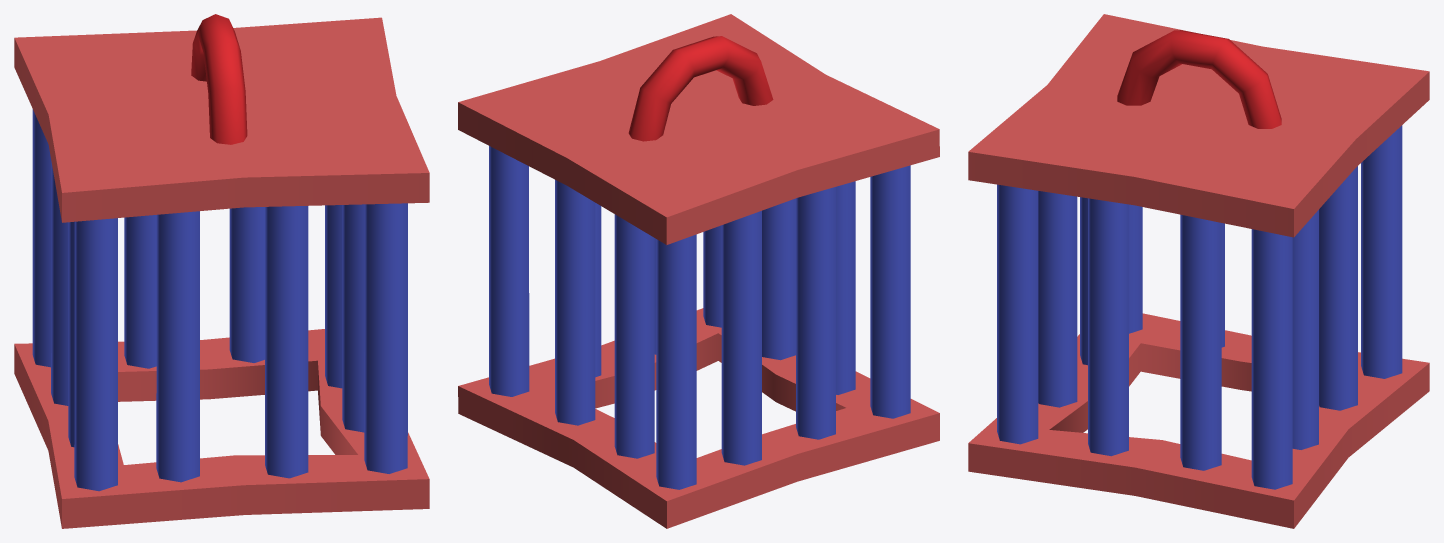
Rendered from Prop_FallingCage_Fabi_M.fbx.
3 views of the same model, side by side, from view 1: azimuth 30°, elevation 25°; view 2: azimuth 150°, elevation 25°; view 3: azimuth 270°, elevation 25° (orthographic). The views are drawn at different scales.
Visible parts, largest first — view 1: ASL_FallingCage; view 2: ASL_FallingCage; view 3: ASL_FallingCage.
Part boxes in pixels (bbox=[...]): ASL_FallingCage: bbox=[14, 14, 429, 528]; ASL_FallingCage: bbox=[458, 14, 939, 528]; ASL_FallingCage: bbox=[968, 14, 1429, 528].
Bounding box in the file's own units: 45.78 × 43.29 × 45.77.
